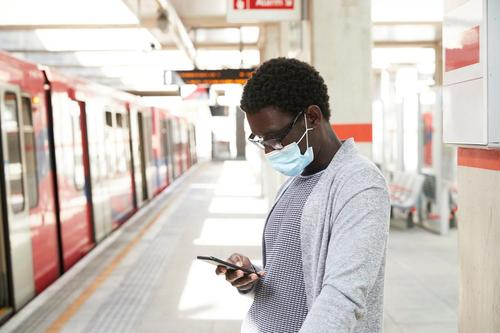reading: (193, 247, 267, 292)
